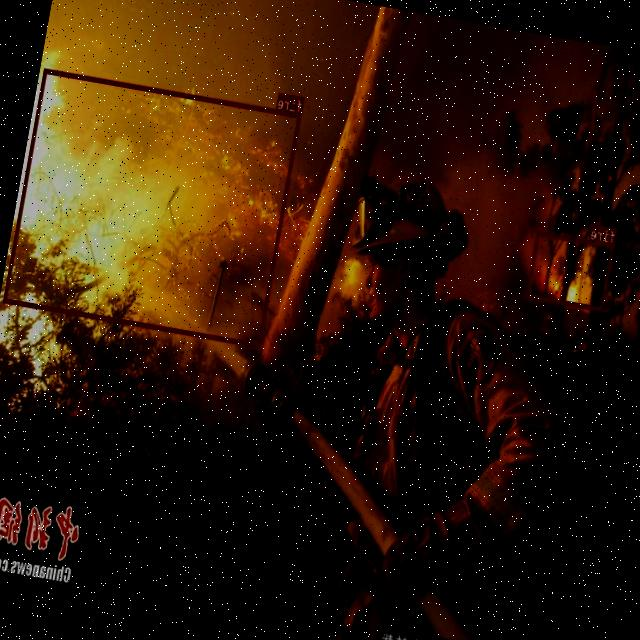fire: (4, 68, 301, 346), (525, 230, 615, 311)
